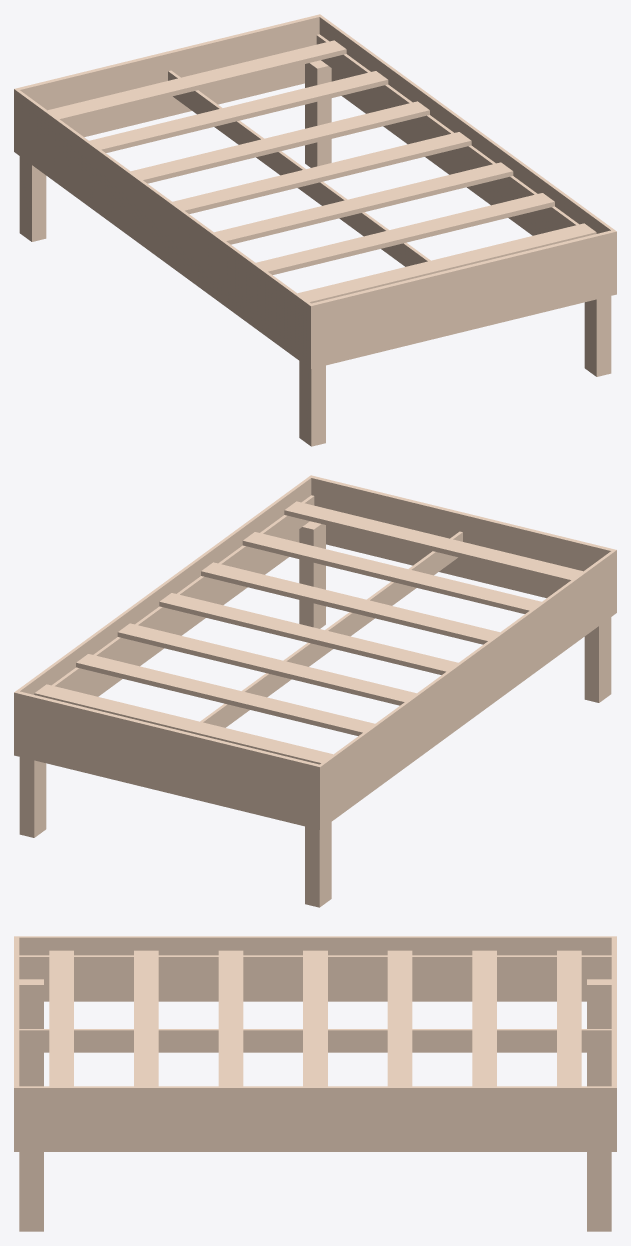
Rendered from Bed Frame FBX.fbx.
The picture shows the model from 3 angles, top to bottom: view 1: azimuth 30°, elevation 25°; view 2: azimuth 150°, elevation 25°; view 3: azimuth 270°, elevation 25°; orthographic projection.
Parts seen in each view (by area): view 1: Cube_0_4, Cube_0_3, Cube_1_4, Cube_1_3, Cube_2_2, Cube_5_2, Cube_3_2, Cube_4_2, Cube_1_5, Cube_6, Cube_0_5, slat__supports_1 (+5 smaller); view 2: Cube_1_4, Cube_0_3, Cube_0_4, Cube_1_3, Cube_4_2, Cube_1_5, Cube_3_2, Cube_0_5, Cube_2_2, Cube_5_2, Cube_6, slat__supports_1 (+5 smaller); view 3: Cube_1_3, Cube_0_3, slat__supports_0, slat__supports_1, Cube_2_2, Cube_4_2, Cube_0_5, Cube_1_5, Cube_3_2, Cube_5_2, Cube_6, Cube_0 (+5 smaller).
Part boxes in pixels (x1,y1,x2,y2): Cube_0_4: [308, 229, 616, 368]; Cube_0_3: [16, 90, 310, 366]; Cube_1_4: [14, 14, 322, 153]; Cube_1_3: [319, 16, 613, 235]; Cube_2_2: [214, 162, 513, 244]; Cube_5_2: [89, 71, 388, 152]; Cube_3_2: [172, 132, 471, 213]; Cube_4_2: [131, 101, 429, 183]; Cube_1_5: [256, 193, 554, 274]; Cube_6: [48, 40, 346, 122]; Cube_0_5: [298, 223, 596, 303]; slat__supports_1: [168, 70, 430, 266]; Cube_1_4: [14, 690, 322, 829]; Cube_0_3: [320, 551, 614, 827]; Cube_0_4: [308, 475, 616, 614]; Cube_1_3: [17, 477, 311, 696]; Cube_4_2: [117, 623, 416, 705]; Cube_1_5: [242, 532, 541, 613]; Cube_3_2: [159, 593, 458, 674]; Cube_0_5: [284, 501, 582, 583]; Cube_2_2: [201, 562, 499, 644]; Cube_5_2: [76, 654, 374, 735]; Cube_6: [34, 684, 332, 764]; slat__supports_1: [200, 531, 462, 727]; Cube_1_3: [19, 1086, 611, 1151]; Cube_0_3: [19, 936, 611, 1001]; slat__supports_0: [19, 955, 611, 979]; slat__supports_1: [19, 1029, 611, 1052]; Cube_2_2: [218, 950, 243, 1086]; Cube_4_2: [387, 950, 412, 1086]; Cube_0_5: [49, 950, 73, 1086]; Cube_1_5: [134, 950, 158, 1086]; Cube_3_2: [303, 950, 327, 1086]; Cube_5_2: [472, 950, 496, 1086]; Cube_6: [557, 950, 581, 1086]; Cube_0: [19, 979, 43, 1086].
Bounding box in the file's own units: 129 × 57.56 × 216.
